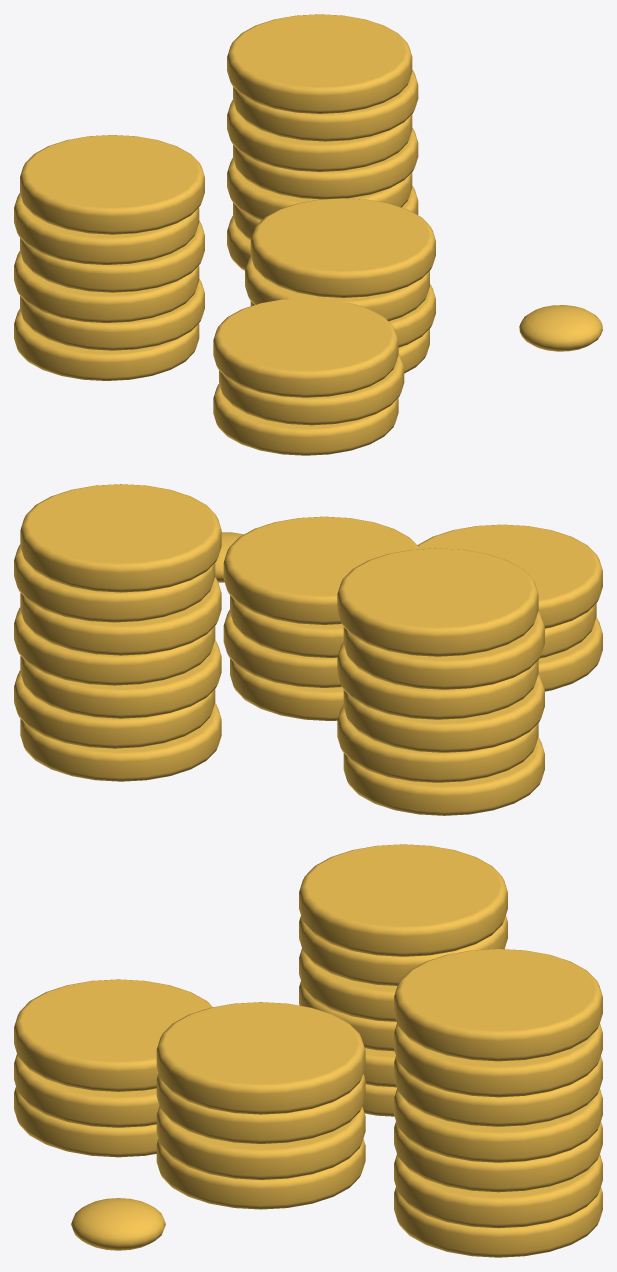
File: corner_payday.glb
3 renders of one model, top to bottom at view 1: azimuth 30°, elevation 25°; view 2: azimuth 150°, elevation 25°; view 3: azimuth 270°, elevation 25°, orthographic. The views are drawn at different scales.
Visible parts, largest first — view 1: Cone; view 2: Cone; view 3: Cone.
Part boxes in pixels (x1,y1,x2,y2): Cone: [14, 14, 602, 455]; Cone: [14, 484, 602, 815]; Cone: [14, 844, 602, 1257].
Size of the model in its own units: 0.61 by 0.263 by 0.62.
